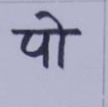o_matra: (47, 11, 70, 67)
